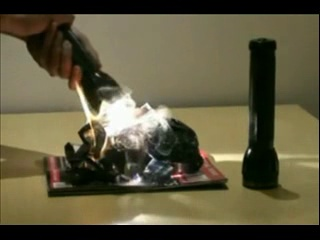fire: (74, 68, 113, 160)
